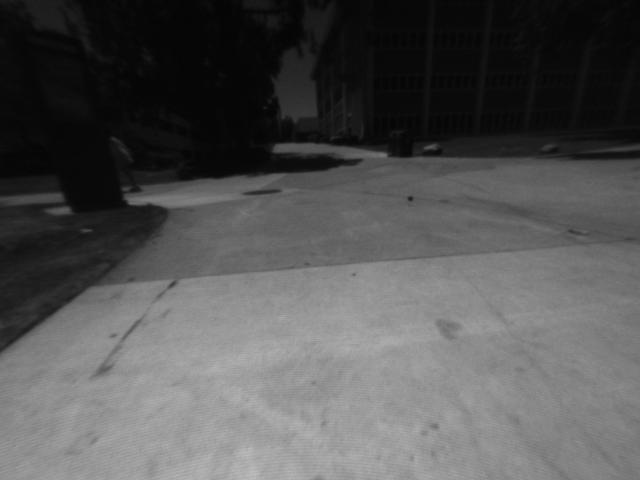dogtoy: (403, 191, 419, 206)
